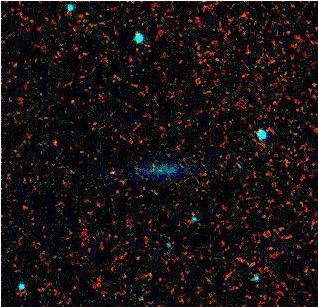star: (95, 158, 125, 188)
